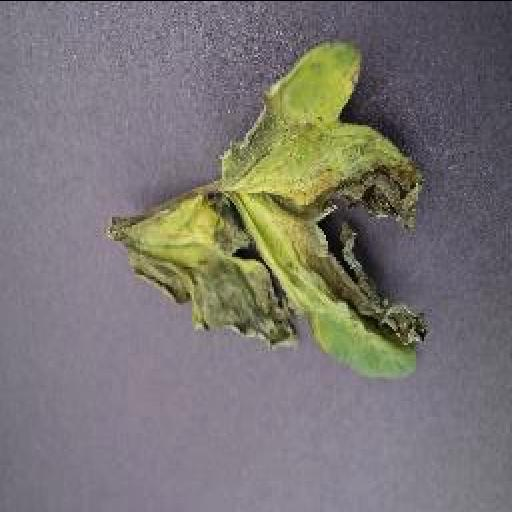disease_tomato: (111, 43, 429, 377)
